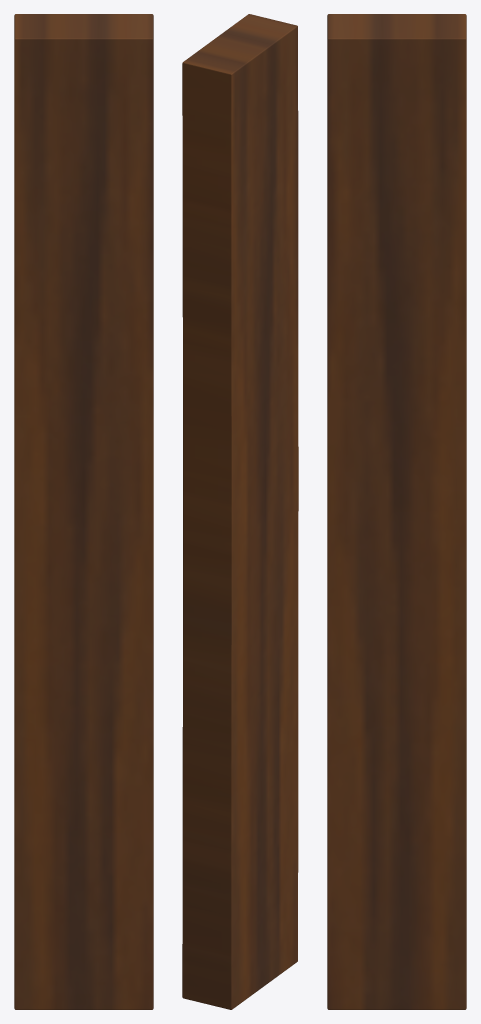
Rendered from CM_FacadeBay01_Post_3p24m.fbx.
3 views of the same model, side by side, from view 1: azimuth 90°, elevation 25°; view 2: azimuth 150°, elevation 25°; view 3: azimuth 270°, elevation 25° (orthographic). The views are drawn at different scales.
Parts seen in each view (by area): view 1: CM_FacadeBay01_Post_3p24m_Timber; view 2: CM_FacadeBay01_Post_3p24m_Timber; view 3: CM_FacadeBay01_Post_3p24m_Timber.
Part boxes in pixels (x1=…): CM_FacadeBay01_Post_3p24m_Timber: x1=14, y1=14, x2=153, y2=1009; CM_FacadeBay01_Post_3p24m_Timber: x1=182, y1=14, x2=298, y2=1009; CM_FacadeBay01_Post_3p24m_Timber: x1=327, y1=14, x2=466, y2=1009.
Bounding box in the file's own units: 0.1815 × 3.24 × 0.42.
